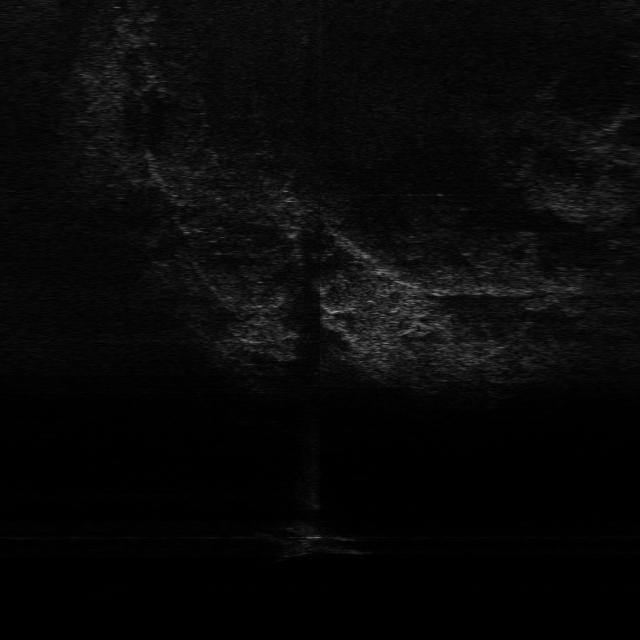plane: (254, 517, 370, 559)
